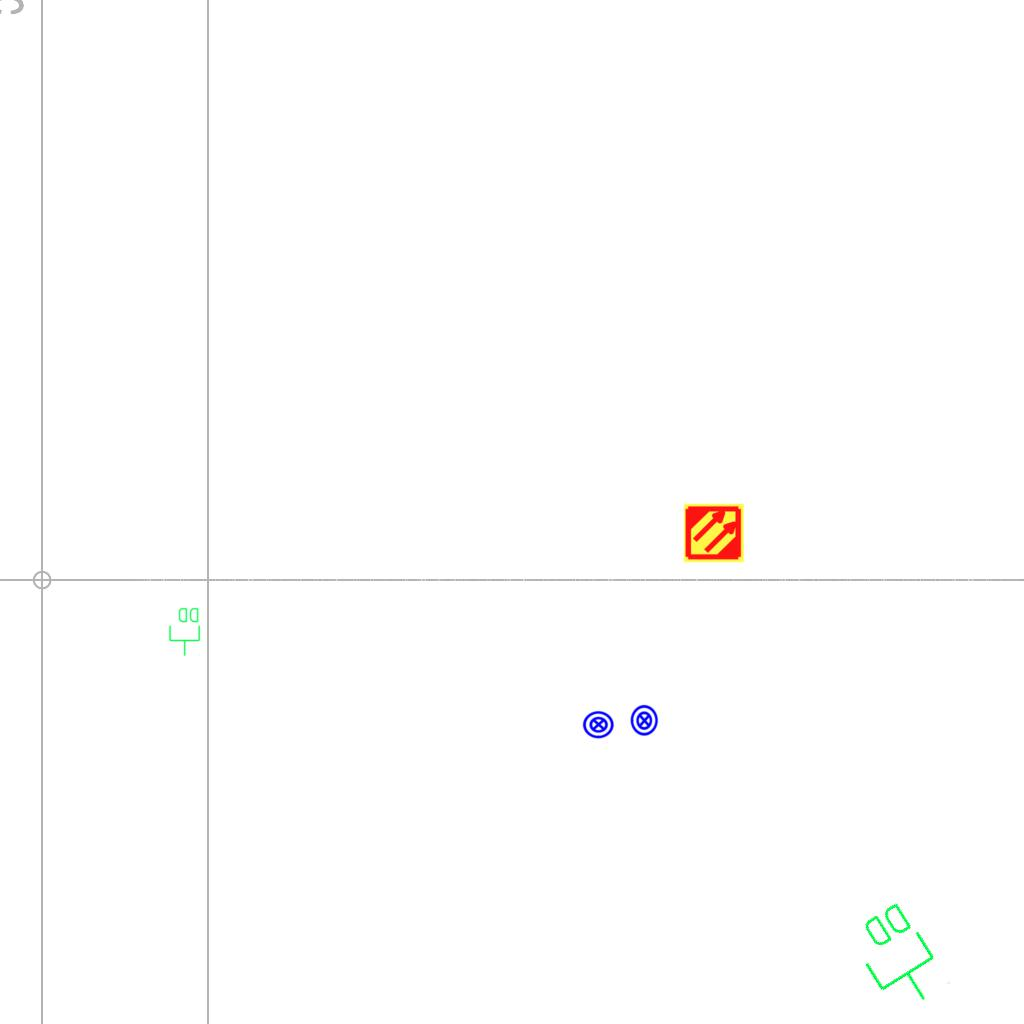ASR_Ansaugrauchmelder: (683, 502, 745, 564)
Datenanschluss_zweifach: (841, 895, 956, 1020), (168, 606, 202, 657)
Taster_beleuchtet: (582, 708, 615, 741), (628, 704, 661, 737)
